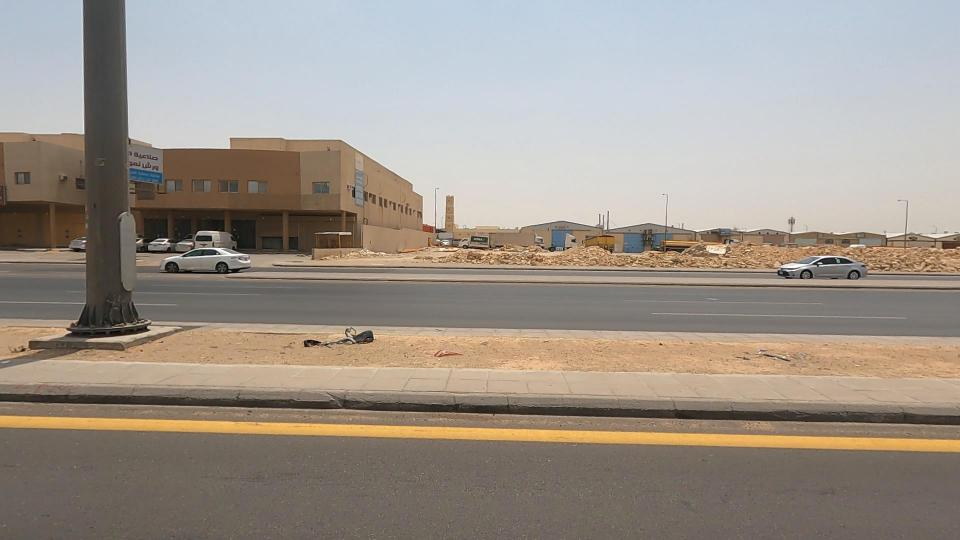CLUTTER_SIDEWALK: (371, 287, 960, 420), (65, 286, 607, 401)
GARBAGE: (243, 293, 446, 385), (711, 324, 814, 388), (407, 329, 483, 376)
